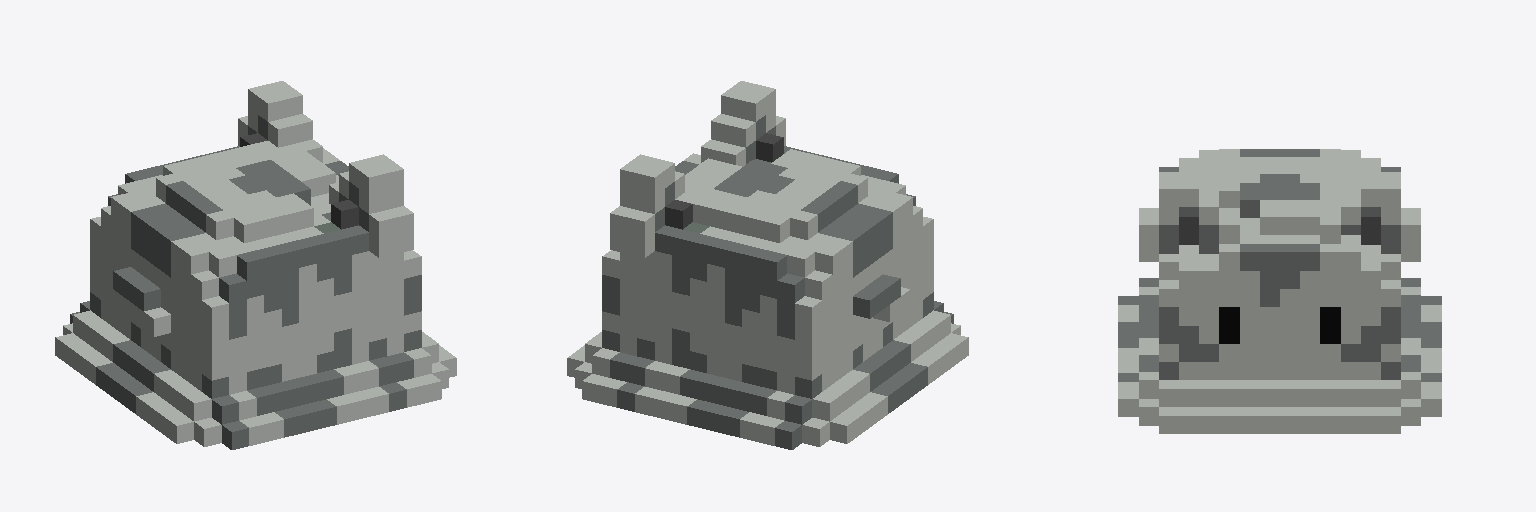
3 views of the same model, side by side, from view 1: azimuth 30°, elevation 25°; view 2: azimuth 150°, elevation 25°; view 3: azimuth 270°, elevation 25° (orthographic).
Parts seen in each view (by area): view 1: object 1; view 2: object 1; view 3: object 1.
Part boxes in pixels (x1,y1,x2,y2): object 1: (55, 81, 456, 449); object 1: (567, 81, 968, 449); object 1: (1118, 149, 1441, 433).
Bounding box in the file's own units: 1.6 × 1.2 × 1.6.
1 materials, 1 textured.